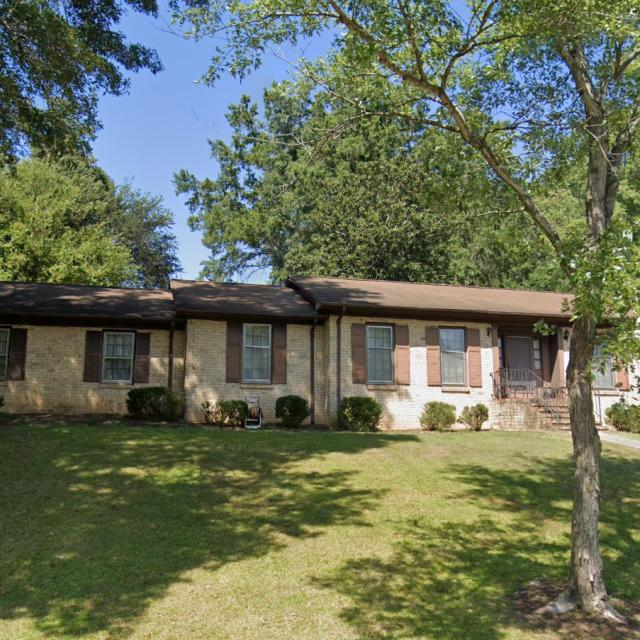House: (0, 275, 640, 434)
